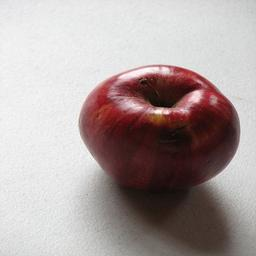apple: (78, 65, 240, 195)
